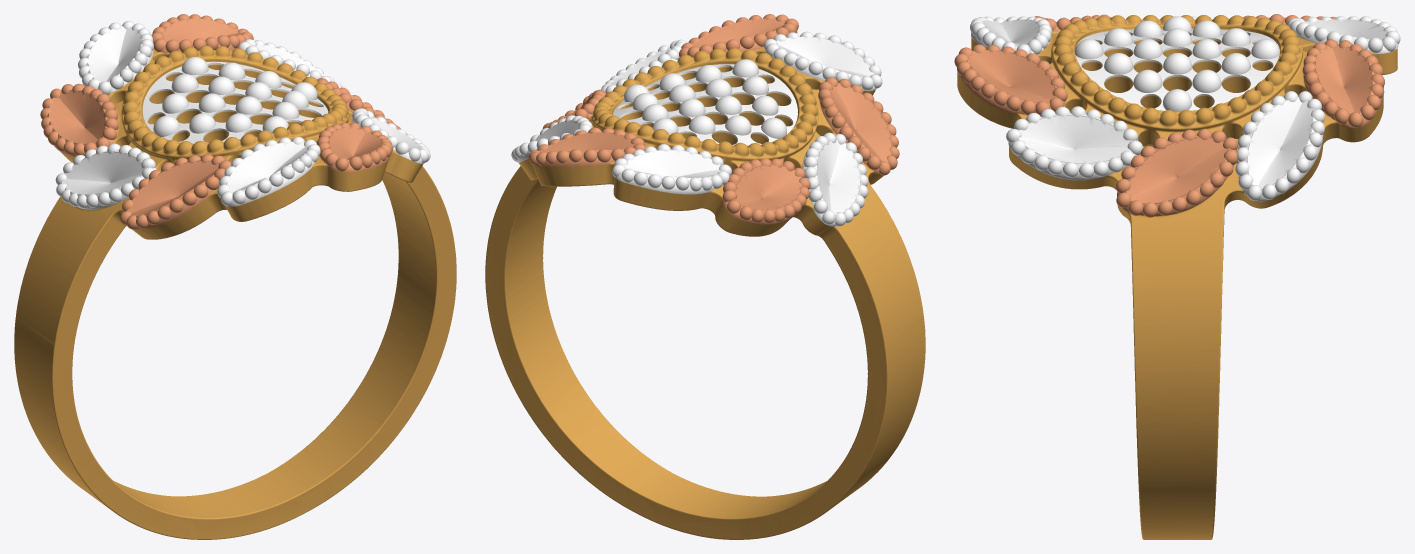
3 views of the same model, side by side, from view 1: azimuth 30°, elevation 25°; view 2: azimuth 150°, elevation 25°; view 3: azimuth 270°, elevation 25° (orthographic). The views are drawn at different scales.
Visible parts, largest first — view 1: object_1, object_2, object_10; view 2: object_1, object_2, object_10; view 3: object_1, object_2, object_10.
Boxes of the visible parts, x1,y1,x2,y2 form: object_1: (14, 45, 456, 539); object_2: (55, 21, 430, 209); object_10: (40, 14, 407, 229); object_1: (485, 48, 925, 539); object_2: (511, 31, 882, 226); object_10: (528, 14, 899, 224); object_1: (957, 15, 1397, 539); object_2: (970, 16, 1400, 201); object_10: (954, 14, 1384, 217).
Size of the model in its own units: 0.0814 by 0.0838 by 0.0712.
